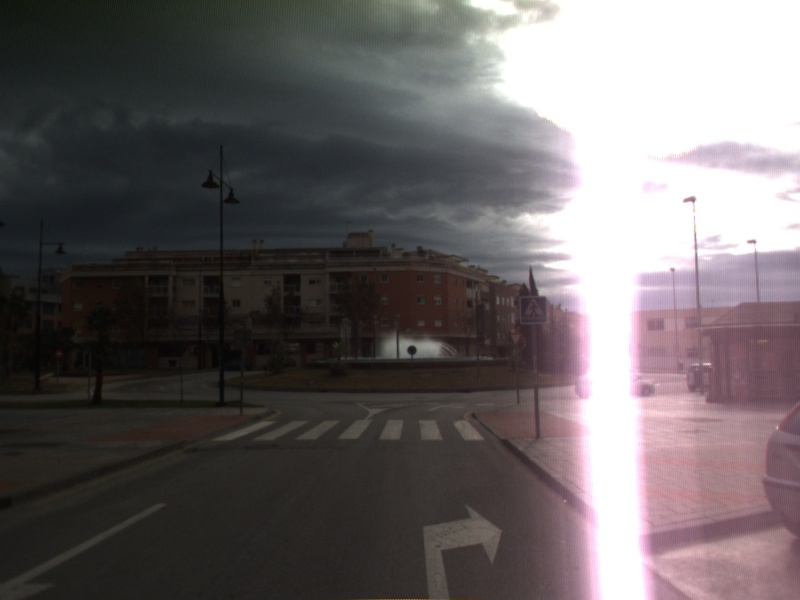RIGHT: (419, 500, 506, 600)
